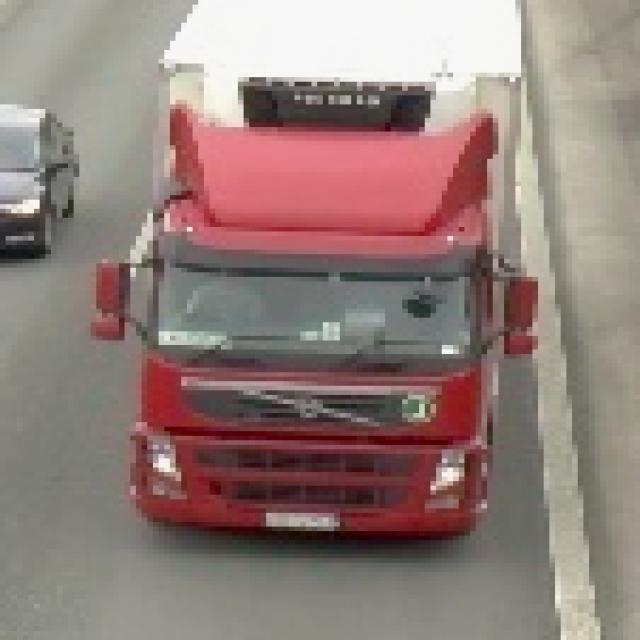truck: (80, 1, 539, 541)
